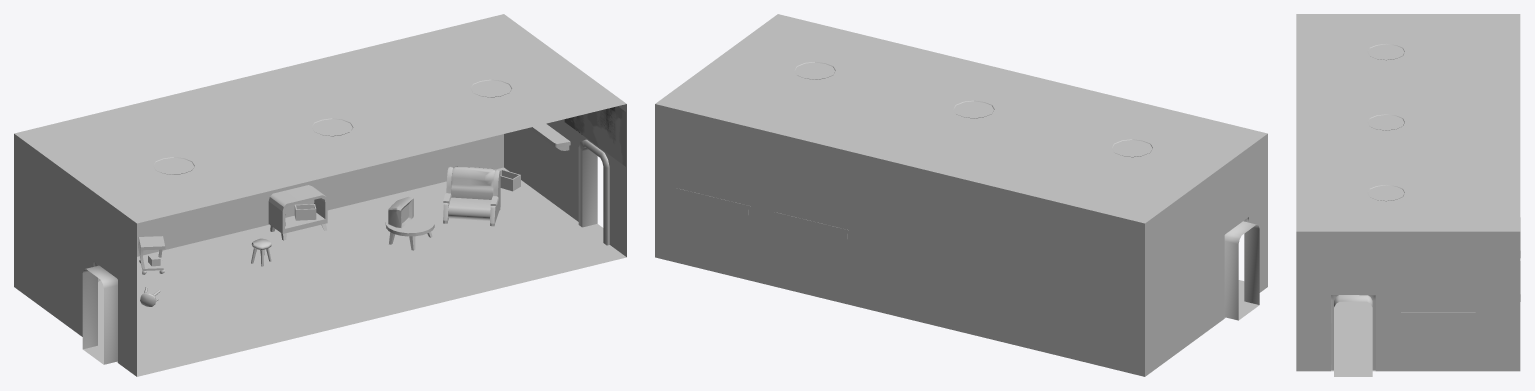
The model's file is MSH_QuestIndustrial_L4_R2_optimized.fbx.
3 views of the same model, side by side, from view 1: azimuth 30°, elevation 25°; view 2: azimuth 150°, elevation 25°; view 3: azimuth 270°, elevation 25° (orthographic). The views are drawn at different scales.
Visible parts, largest first — view 1: lightmap0, lightmap3, lightmap1, MSH_QuestIndustrial_L4_R2_Dirt_01, MSH_QuestIndustrial_L4_R2_Papers_01; view 2: lightmap1, lightmap3, lightmap0; view 3: lightmap3, lightmap1, lightmap0.
Part boxes in pixels (x1,y1,x2,y2): lightmap0: (82, 137, 626, 376); lightmap3: (14, 14, 626, 223); lightmap1: (14, 79, 626, 376); MSH_QuestIndustrial_L4_R2_Dirt_01: (564, 106, 625, 166); MSH_QuestIndustrial_L4_R2_Papers_01: (98, 119, 565, 327); lightmap1: (655, 61, 1267, 376); lightmap3: (655, 14, 1267, 223); lightmap0: (1224, 217, 1259, 320); lightmap3: (1296, 14, 1520, 231); lightmap1: (1296, 43, 1520, 371); lightmap0: (1331, 295, 1375, 376).
Bounding box in the file's own units: 20.6 × 5.92 × 8.53.
